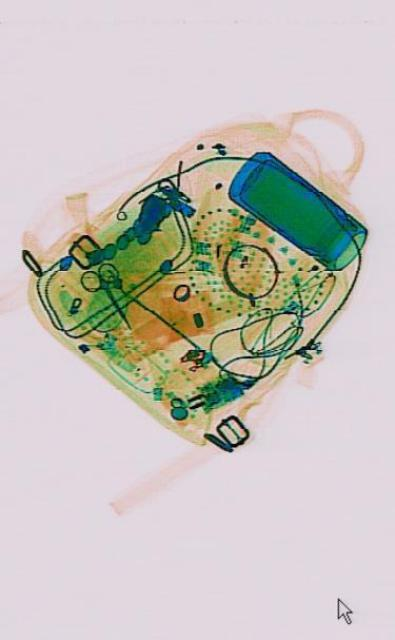Scissors: (75, 243, 142, 345)
